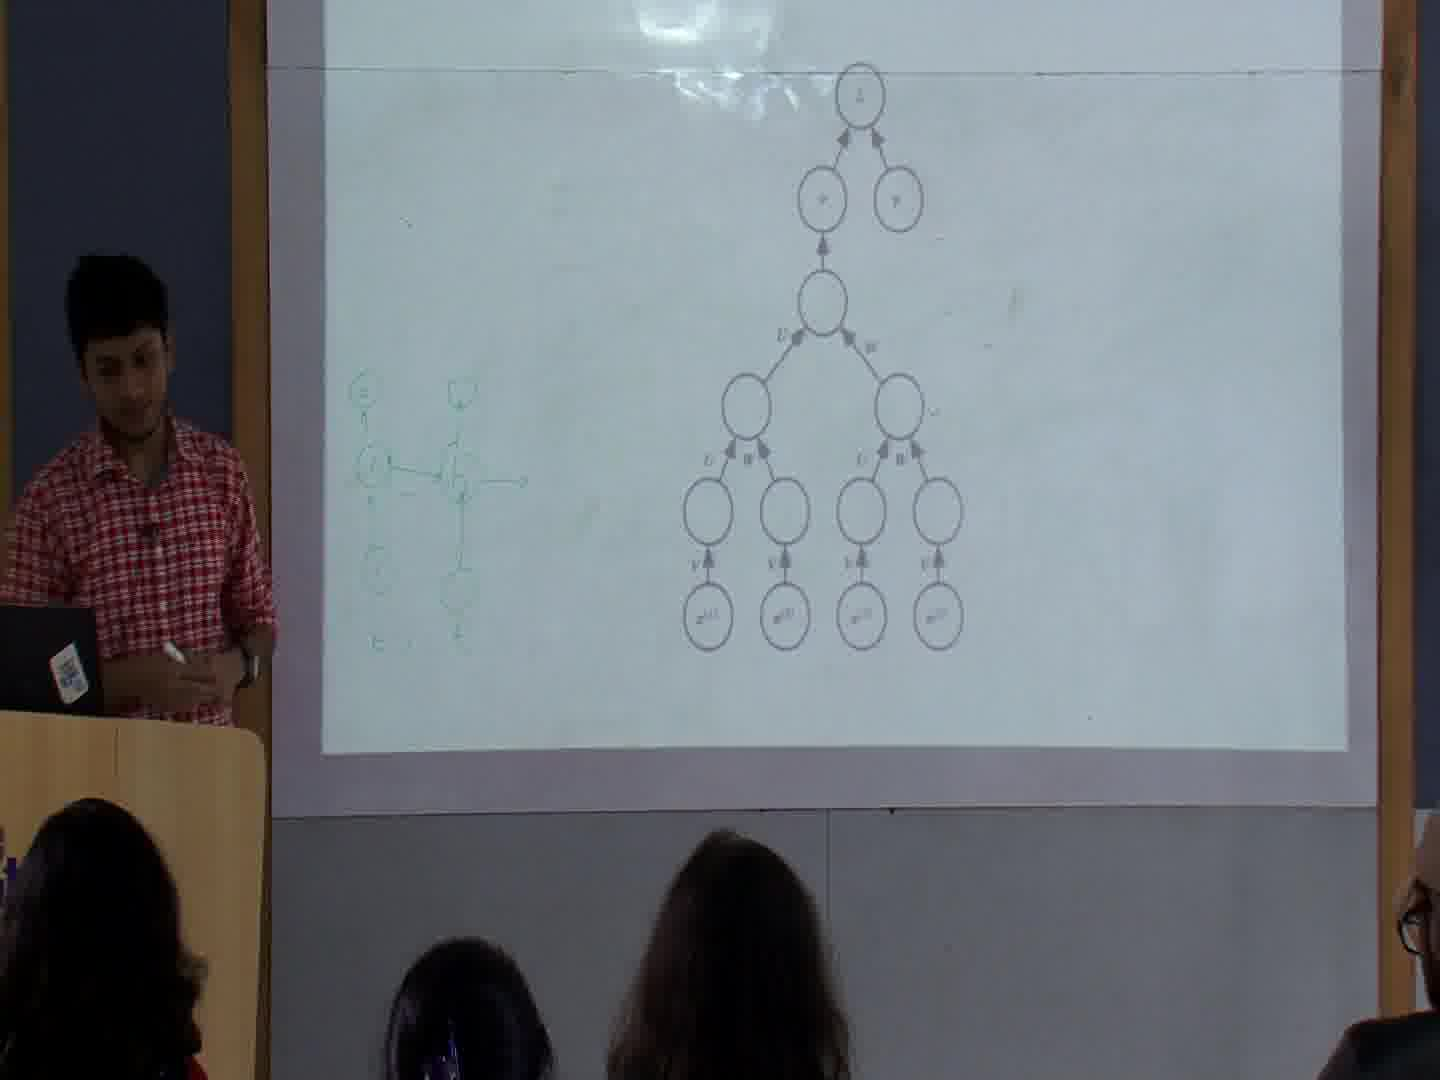slide: (322, 1, 1349, 751)
